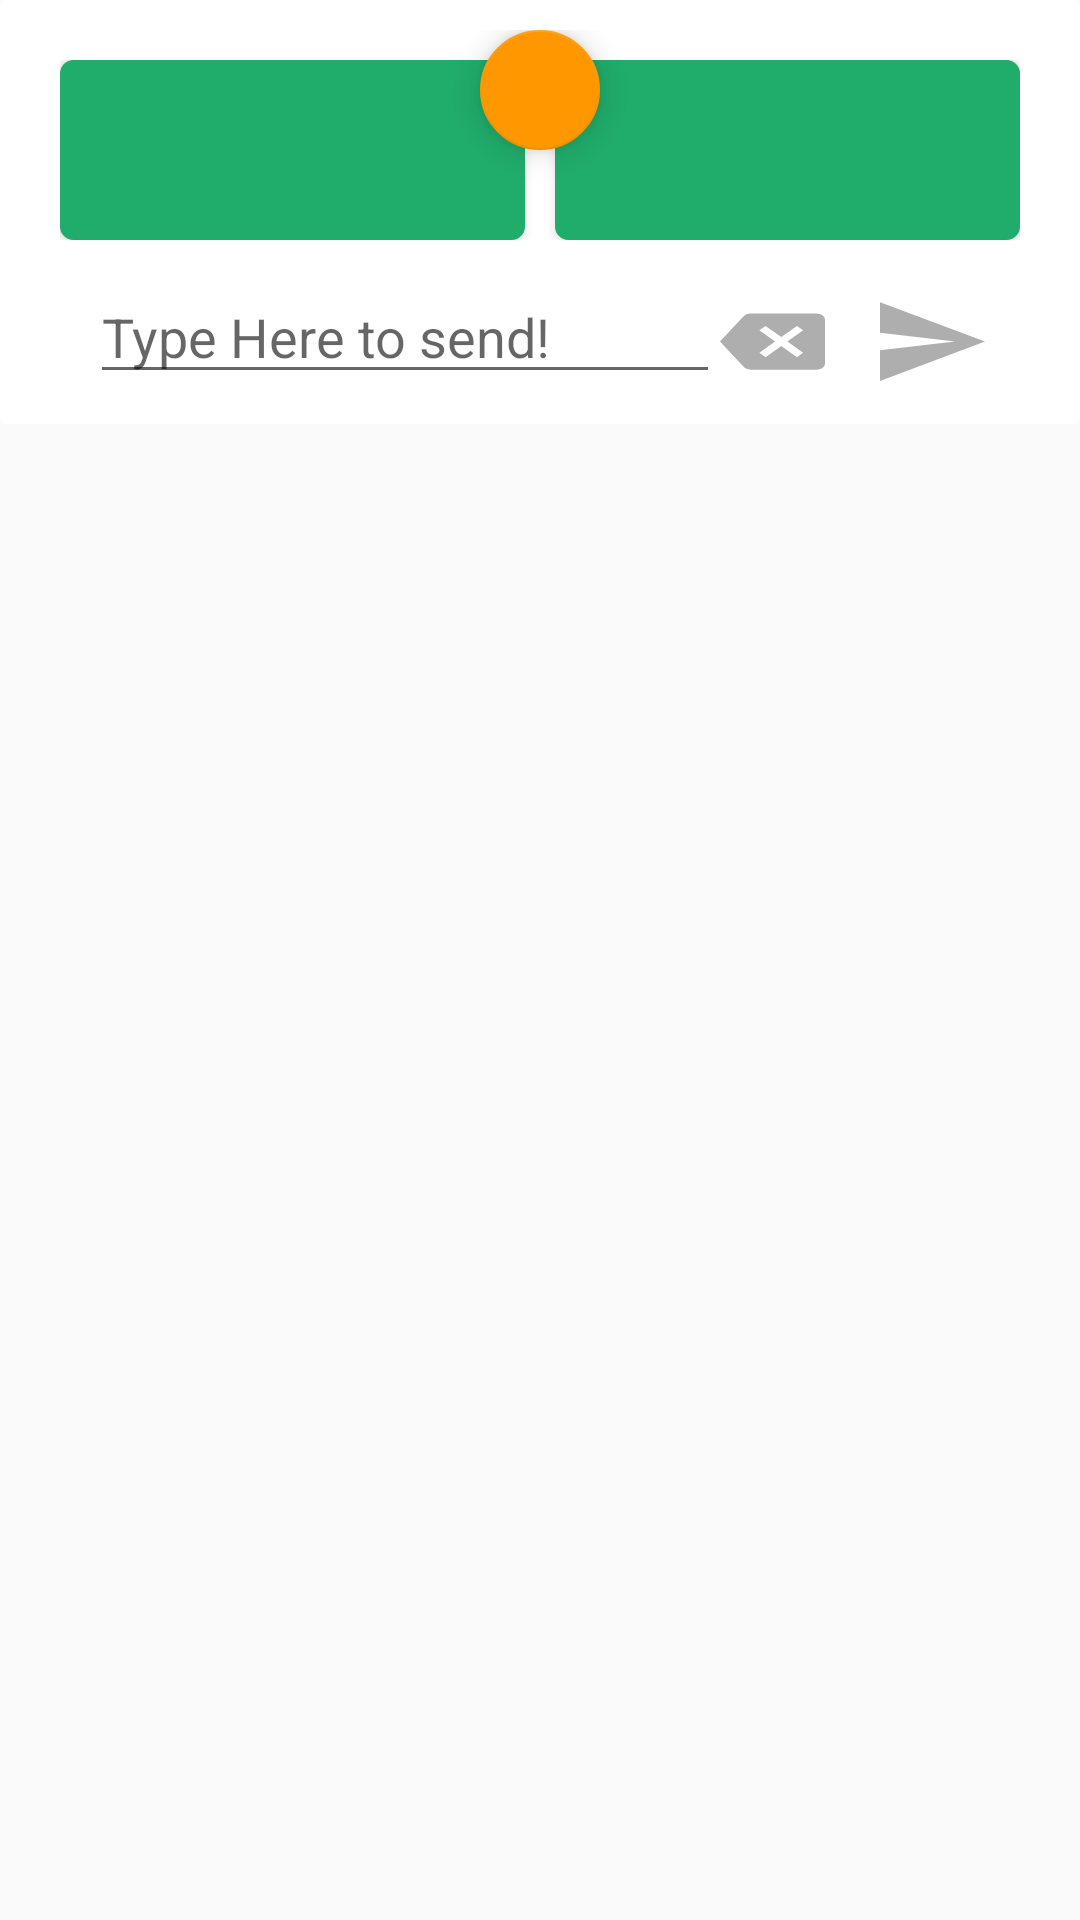

Icon click points for this 1080w x 1920h phone screenshot, format point (x, y):
backspace: point (772, 341)
